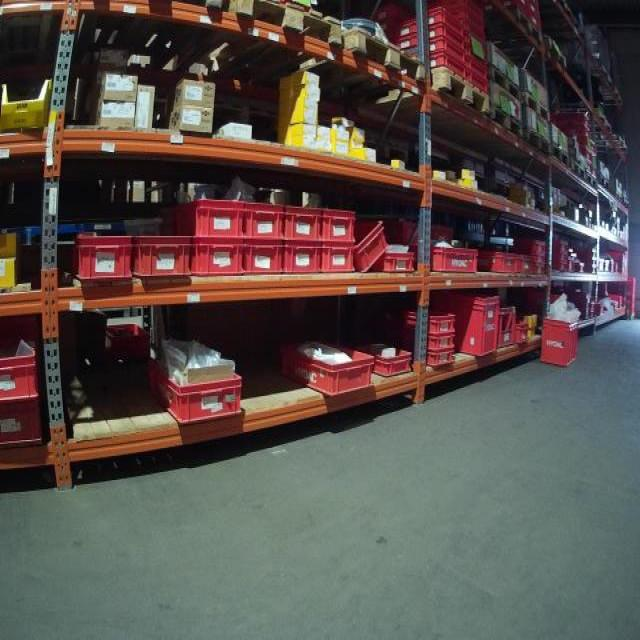pallet: (263, 26, 433, 113), (197, 1, 340, 103), (87, 1, 225, 83), (351, 64, 493, 132), (477, 7, 545, 52), (490, 110, 523, 151), (516, 128, 552, 165), (489, 65, 521, 102), (519, 92, 555, 123), (543, 145, 571, 170), (559, 165, 586, 185), (598, 132, 628, 149), (587, 175, 599, 195)
small_load_carrier: (144, 351, 248, 424), (279, 339, 379, 395), (438, 288, 502, 369), (166, 199, 249, 241), (66, 231, 130, 285), (2, 332, 49, 401), (129, 232, 190, 285), (185, 240, 249, 280), (0, 399, 48, 450), (354, 217, 396, 274), (420, 237, 477, 278), (540, 317, 583, 370), (366, 335, 414, 380), (244, 201, 288, 243), (285, 204, 325, 243), (402, 307, 453, 336), (244, 243, 288, 275), (288, 243, 326, 276), (323, 205, 355, 243), (480, 251, 525, 275), (324, 244, 355, 274), (498, 301, 516, 351), (419, 9, 461, 30), (402, 335, 456, 350), (422, 39, 463, 56), (384, 254, 415, 275), (430, 56, 463, 75), (396, 14, 422, 38), (518, 234, 549, 253), (426, 350, 456, 366), (511, 320, 528, 344), (397, 39, 421, 52), (520, 253, 547, 264), (422, 33, 462, 39), (530, 264, 548, 276)
